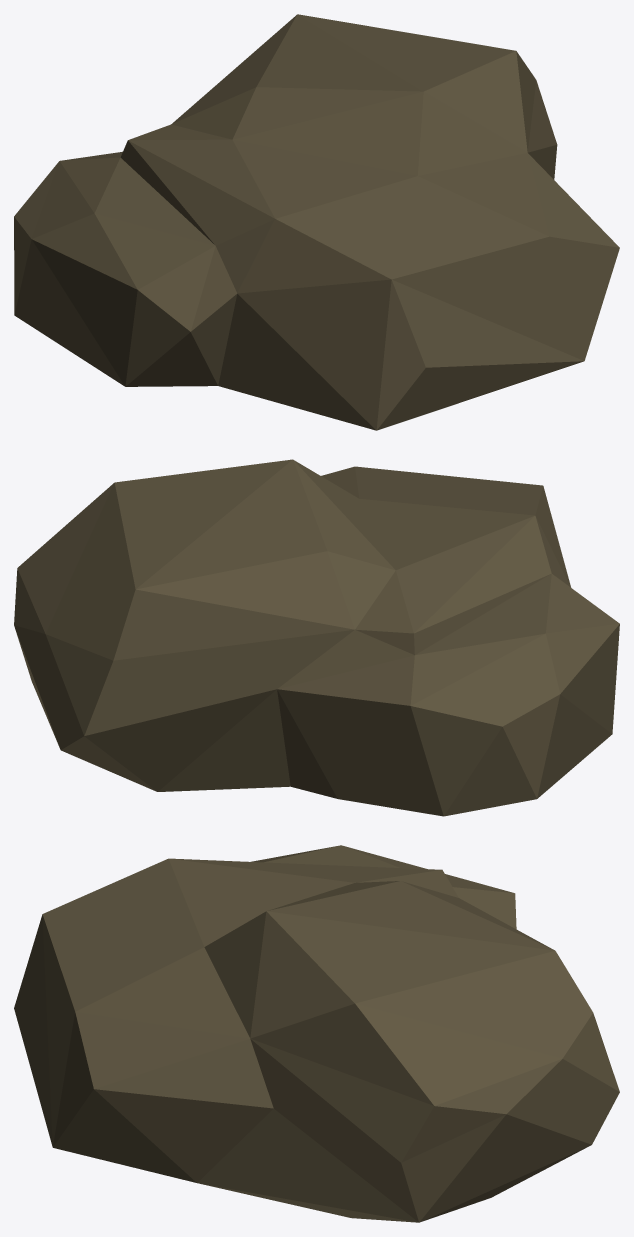
Rendered from rock__rock1_cave_medium.glb.
3 renders of one model, top to bottom at view 1: azimuth 30°, elevation 25°; view 2: azimuth 150°, elevation 25°; view 3: azimuth 270°, elevation 25°, orthographic. The views are drawn at different scales.
Parts seen in each view (by area): view 1: rock1.cave.medium; view 2: rock1.cave.medium; view 3: rock1.cave.medium.
Part boxes in pixels (x1,y1,x2,y2): rock1.cave.medium: (14,14,619,430); rock1.cave.medium: (14,459,619,816); rock1.cave.medium: (14,845,619,1222).
Size of the model in its own units: 3.01 by 1.28 by 2.94.
Materials: 1 (1 with a texture image).
